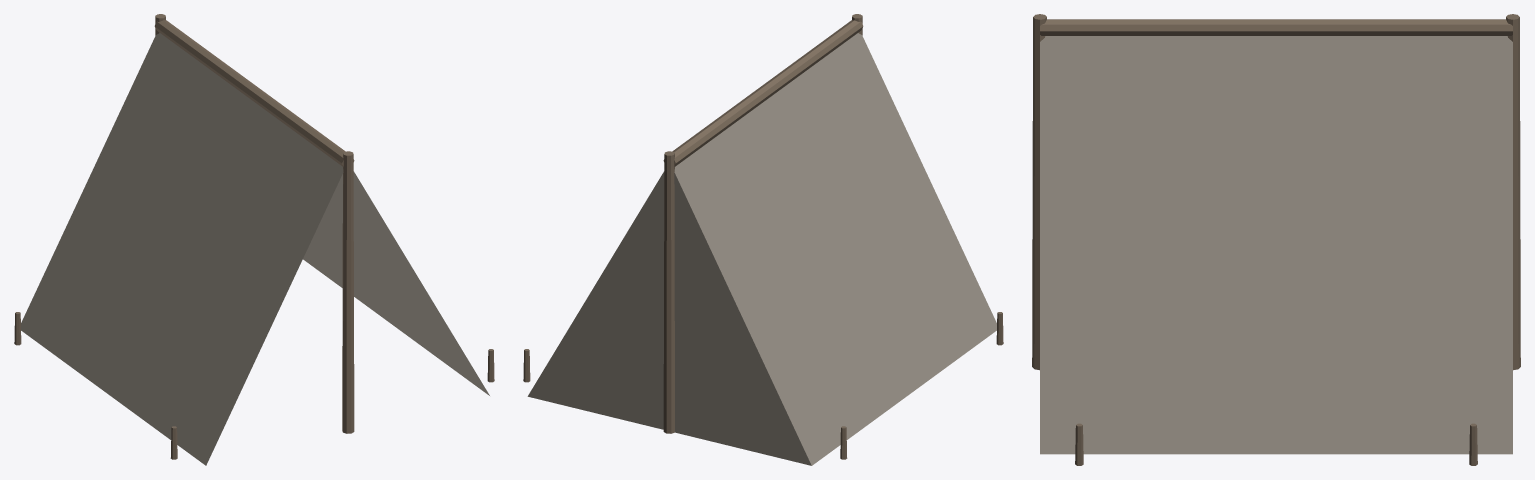
File: Tent.fbx
3 views of the same model, side by side, from view 1: azimuth 30°, elevation 25°; view 2: azimuth 150°, elevation 25°; view 3: azimuth 270°, elevation 25° (orthographic). The views are drawn at different scales.
Visible parts, largest first — view 1: Tent; view 2: Tent; view 3: Tent.
Part boxes in pixels (box(x1,y1,x2,y2)): Tent: box(14, 14, 494, 465); Tent: box(523, 14, 1003, 465); Tent: box(1032, 14, 1520, 465).
Bounding box in the file's own units: 238 × 196 × 248.
